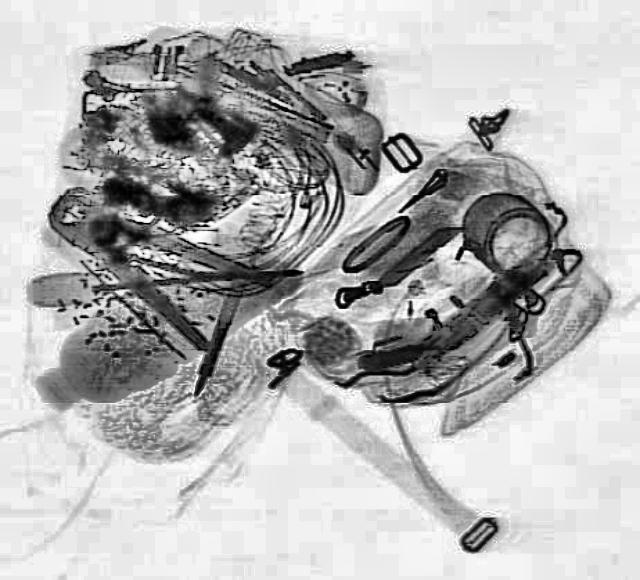Pliers: (18, 160, 276, 354)
